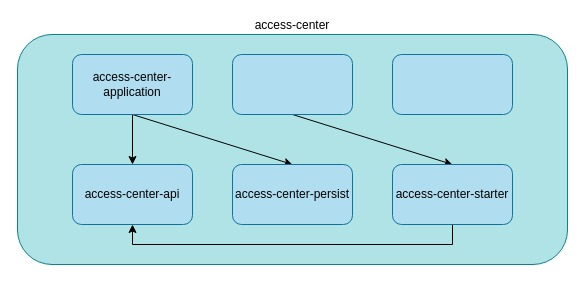
Image size: 585x282. Some labels were removed from this diagram. Each missing label, with the box of its shape:
access-center-sample: (232, 54, 352, 114)
access-center-sql: (392, 54, 512, 114)
